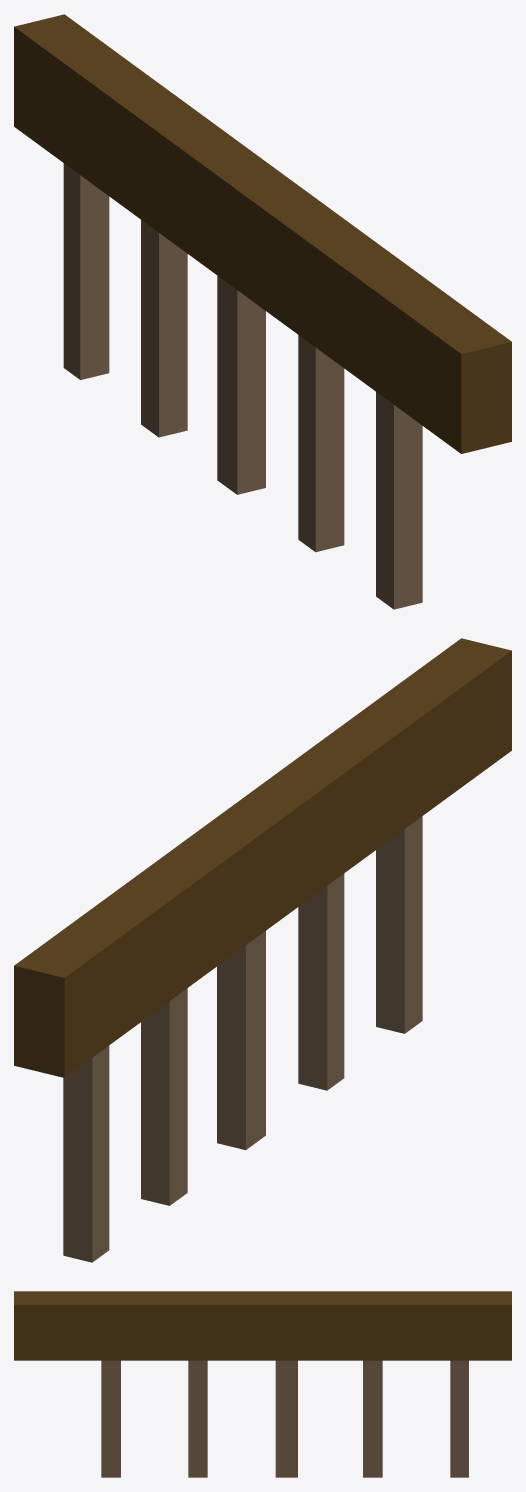
Rendered from Rail02.fbx.
3 views of the same model, one above another, from view 1: azimuth 30°, elevation 25°; view 2: azimuth 150°, elevation 25°; view 3: azimuth 270°, elevation 25° (orthographic). The views are drawn at different scales.
Parts seen in each view (by area): view 1: Rail02; view 2: Rail02; view 3: Rail02.
Part boxes in pixels (x1,y1,x2,y2): Rail02: (14,14,511,609); Rail02: (14,638,511,1262); Rail02: (14,1291,511,1477).
Size of the model in its own units: 0.5296 by 3.16 by 8.11.
